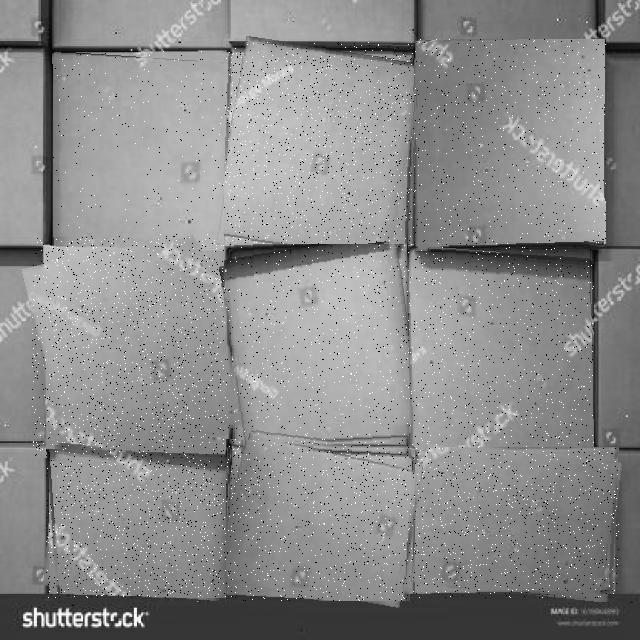BoxFace: (32, 236, 236, 458), (224, 42, 419, 253), (416, 39, 606, 250), (224, 244, 414, 448), (408, 245, 594, 450), (53, 51, 230, 247), (226, 439, 419, 601), (415, 447, 619, 598), (46, 445, 231, 598)
